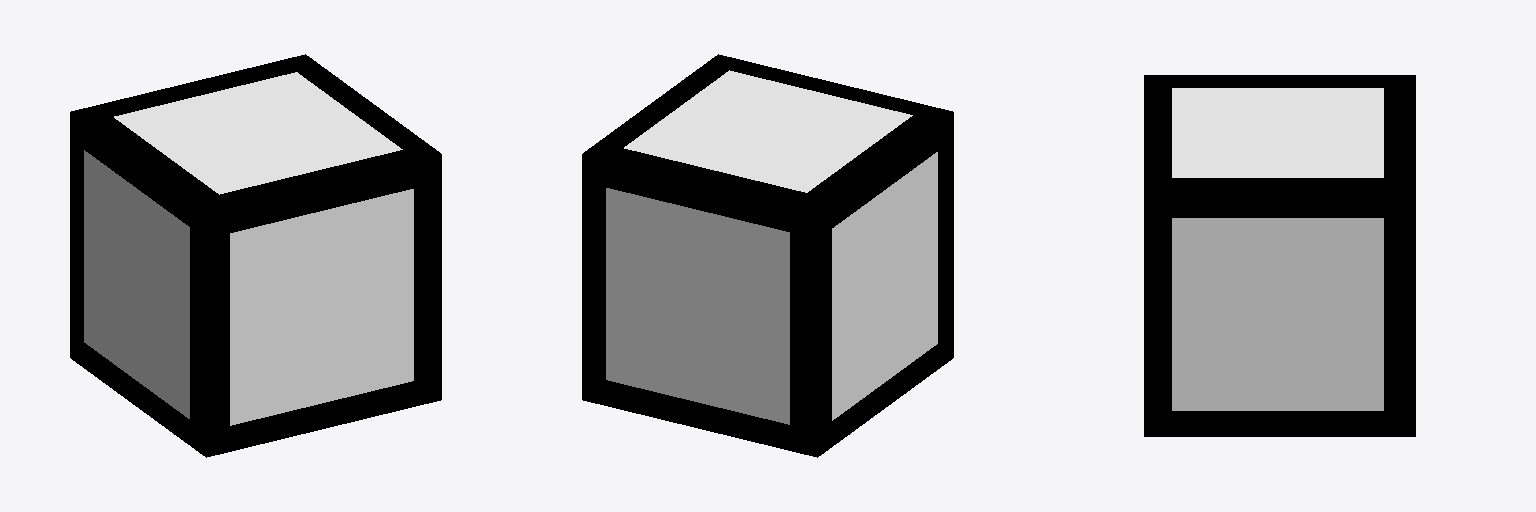
3 renders of one model, left to right at view 1: azimuth 30°, elevation 25°; view 2: azimuth 150°, elevation 25°; view 3: azimuth 270°, elevation 25°, orthographic.
Visible parts, largest first — view 1: Cube; view 2: Cube; view 3: Cube.
Boxes of the visible parts, x1,y1,x2,y2 form: Cube: [70, 54, 441, 457]; Cube: [582, 54, 953, 457]; Cube: [1144, 75, 1415, 436].
Bounding box in the file's own units: 2 × 2 × 2.
Materials: 1 (1 with a texture image).